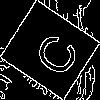C: (25, 24, 82, 81)
